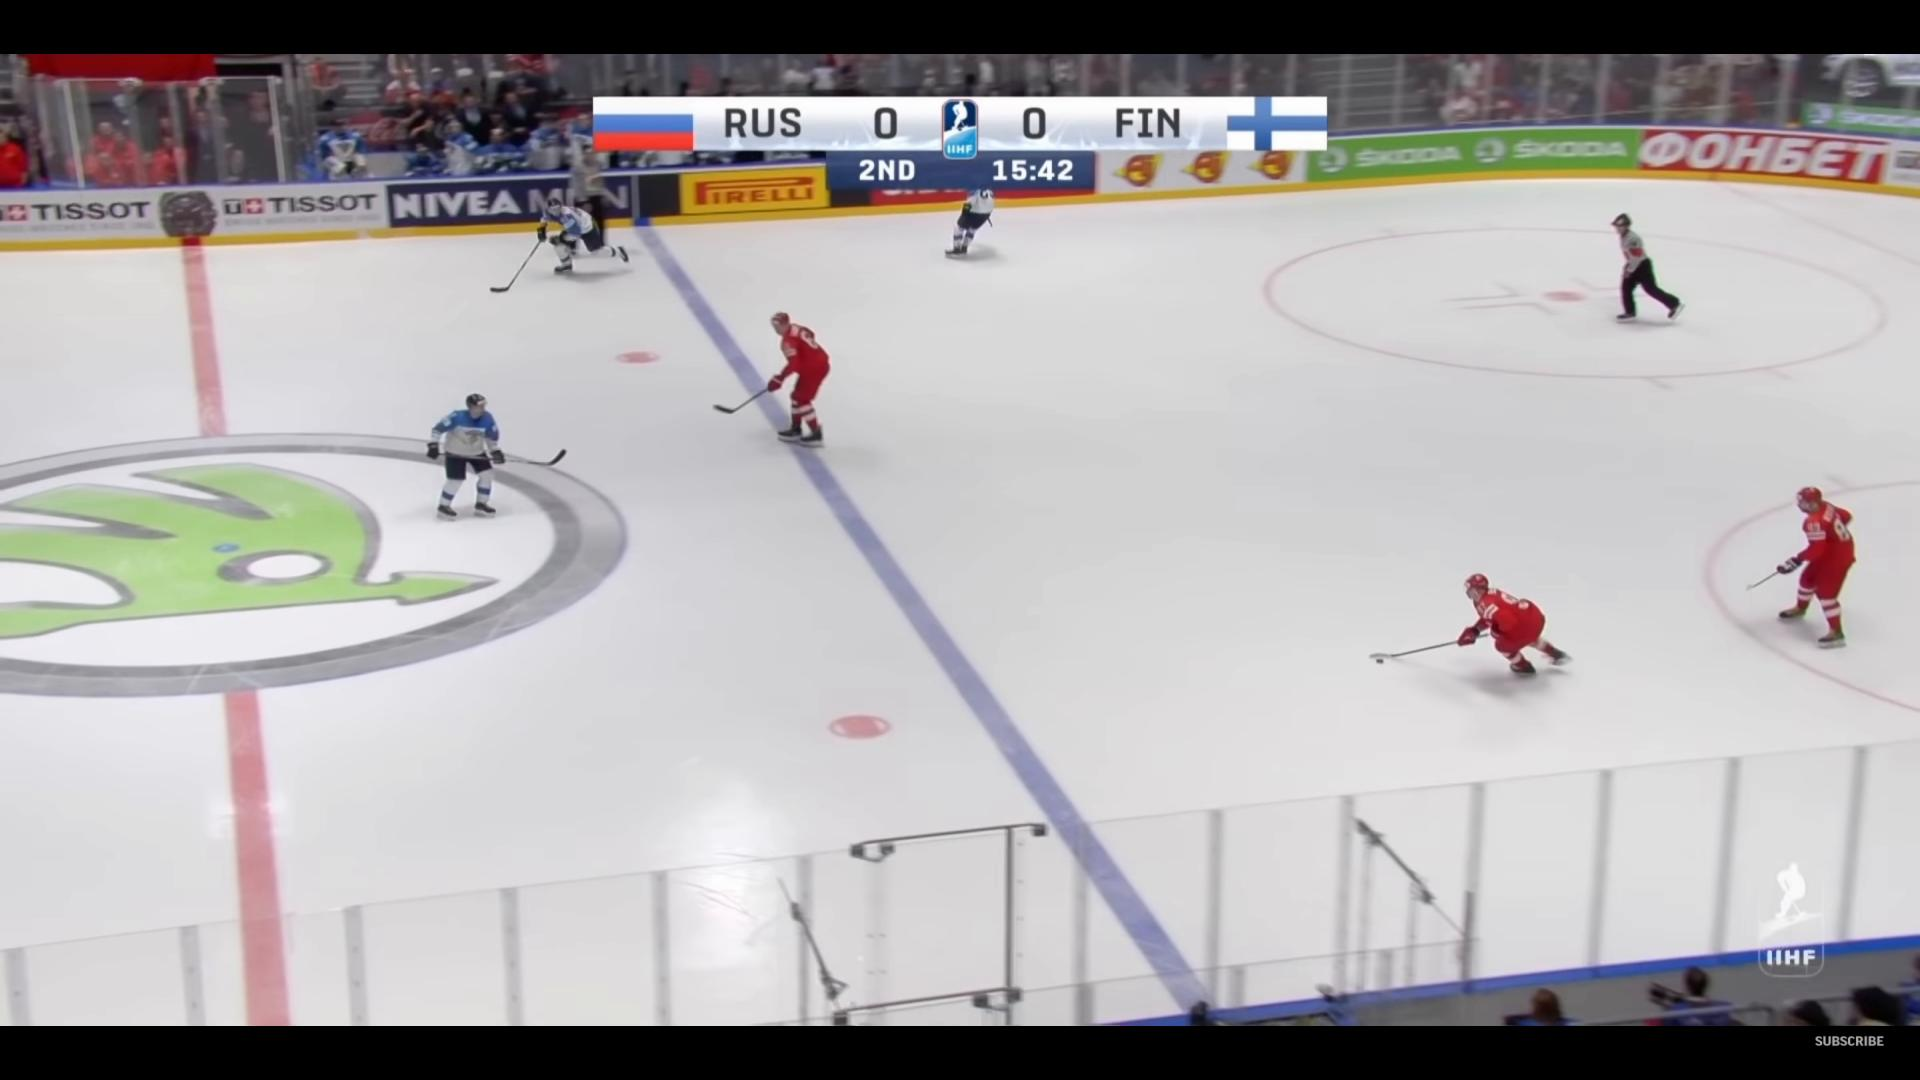puck: (1375, 658, 1383, 664)
